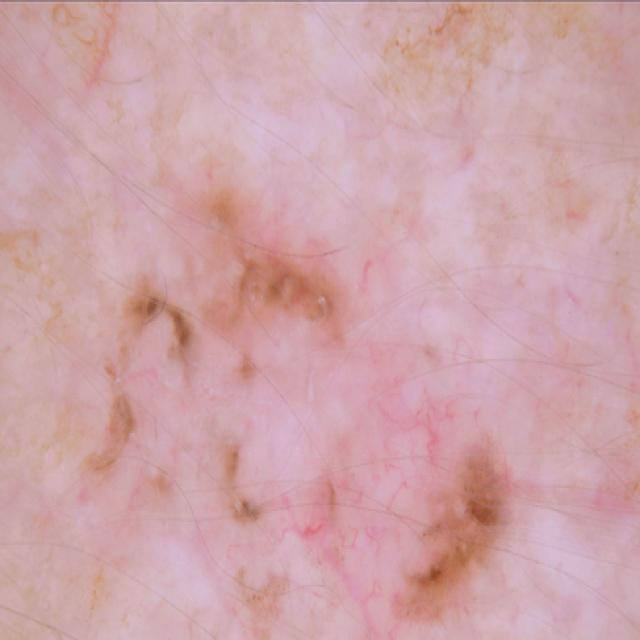Carcinoma: (82, 190, 534, 640)
